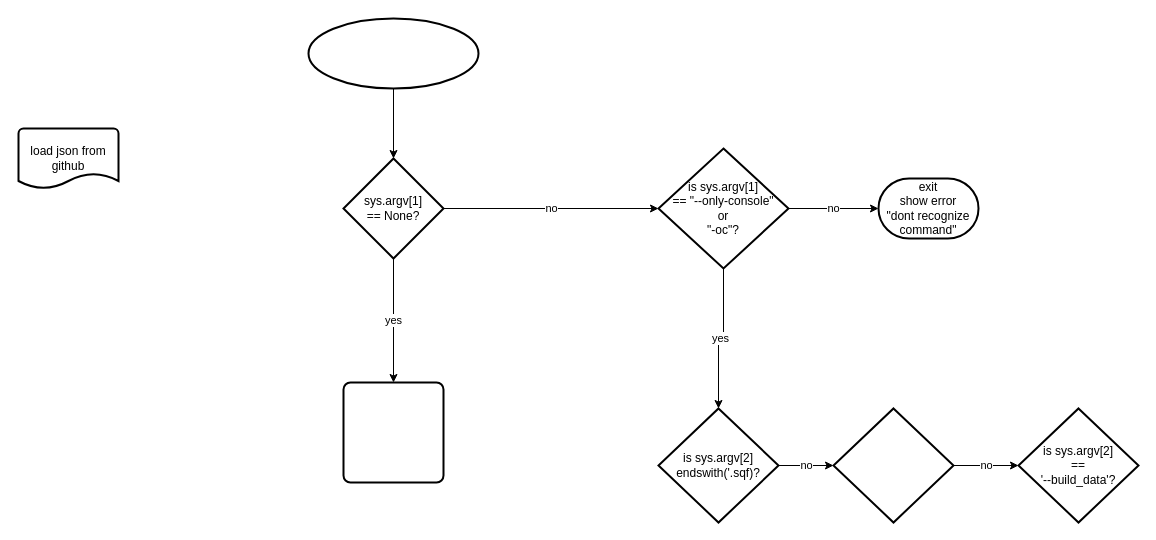
This 1156x540 diagram has some shape labels left out. Here are the shapes that lost their labels. From the top down, the centre of each, then its label:
At point (393, 53): "application start".
At point (393, 432): "startup normal GUI".
At point (893, 465): "is sys.argv[2] startswith ('A3A_fn_')?".
